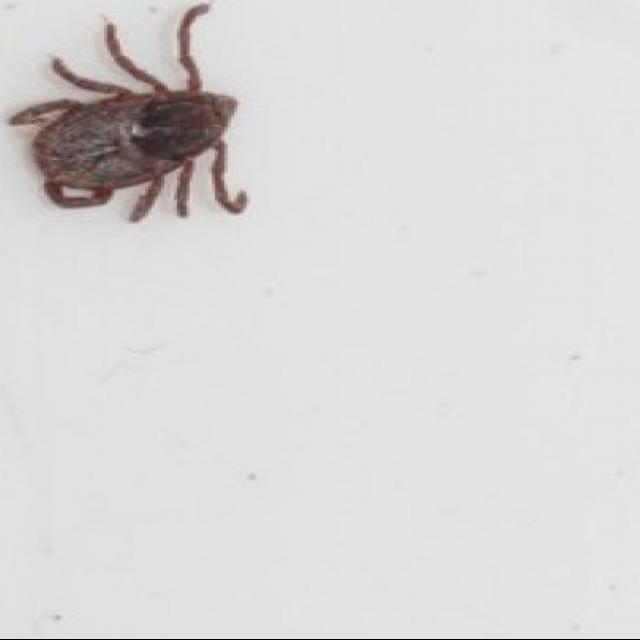Rhipicephalus Sanguineus-F: (3, 1, 247, 225)
